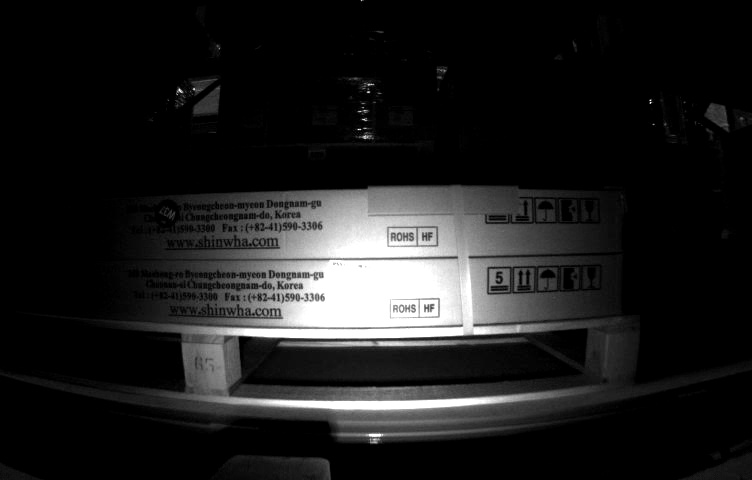True Barcode: (326, 258, 386, 316)
